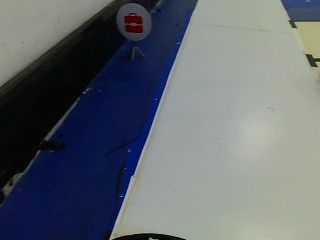company: (109, 3, 156, 47)
